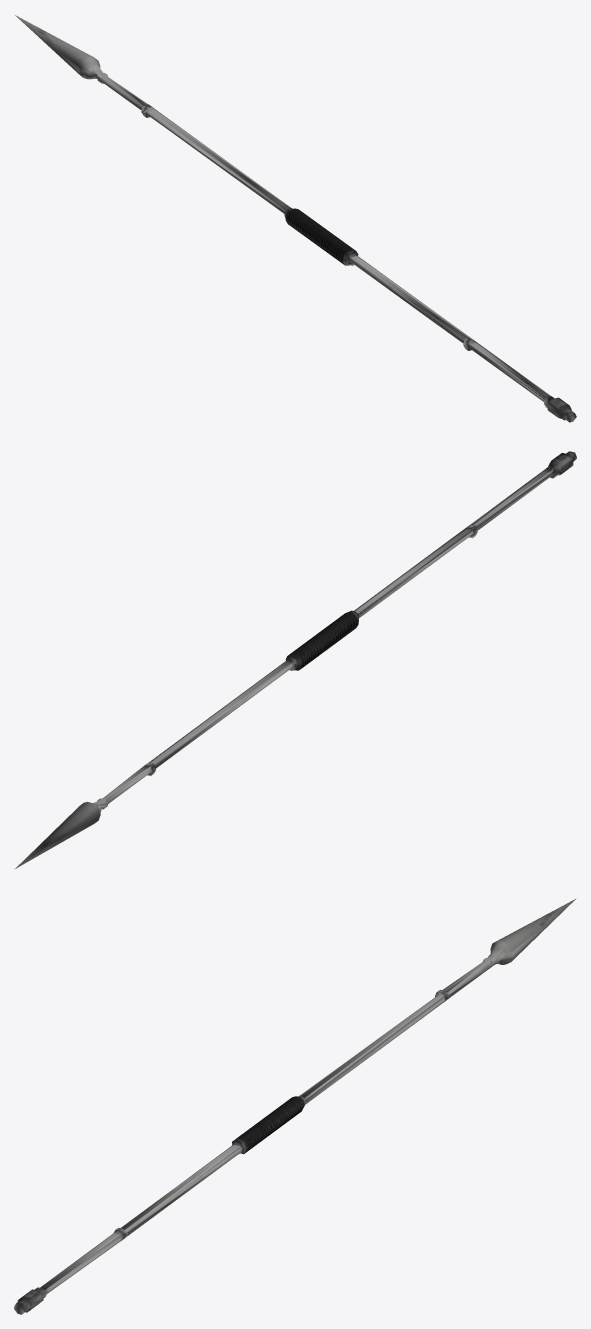
The model's file is beskar_spear.glb.
3 renders of one model, top to bottom at view 1: azimuth 30°, elevation 25°; view 2: azimuth 150°, elevation 25°; view 3: azimuth 330°, elevation 25°, orthographic.
Visible parts, largest first — view 1: beskar_spear; view 2: beskar_spear; view 3: beskar_spear.
Part boxes in pixels (x1,y1,x2,y2): beskar_spear: [15, 15, 576, 422]; beskar_spear: [14, 451, 576, 869]; beskar_spear: [14, 898, 576, 1314].
Size of the model in its own units: 0.0234 by 0.0215 by 0.9981.
Materials: 1 (1 with a texture image).
